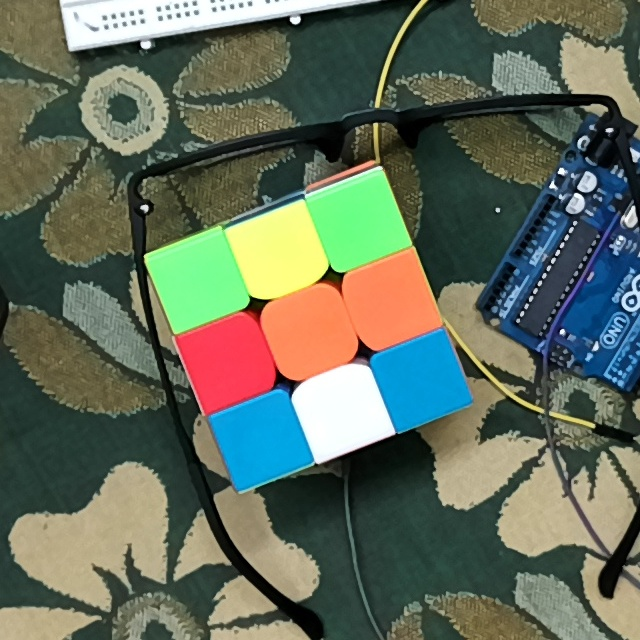tile: (196, 331, 262, 393), (277, 301, 341, 364), (360, 269, 420, 335), (229, 409, 294, 469), (168, 250, 229, 311), (310, 380, 370, 440), (326, 193, 387, 252), (247, 225, 307, 281), (392, 352, 452, 408)
